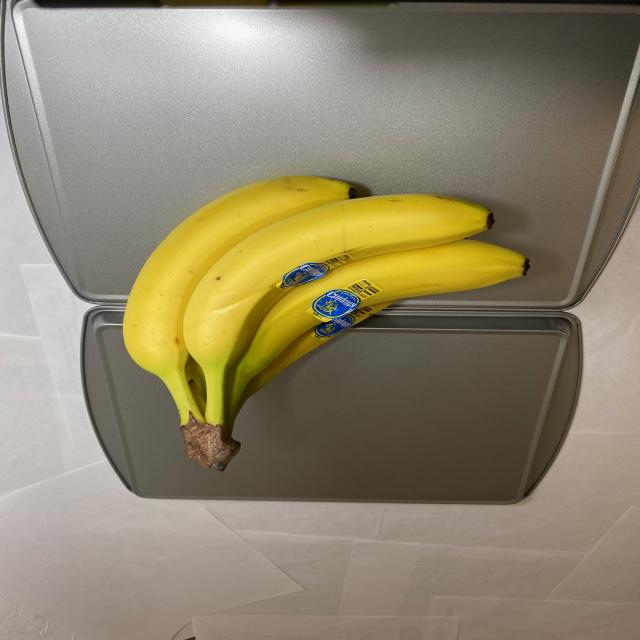banana: (119, 165, 542, 475)
